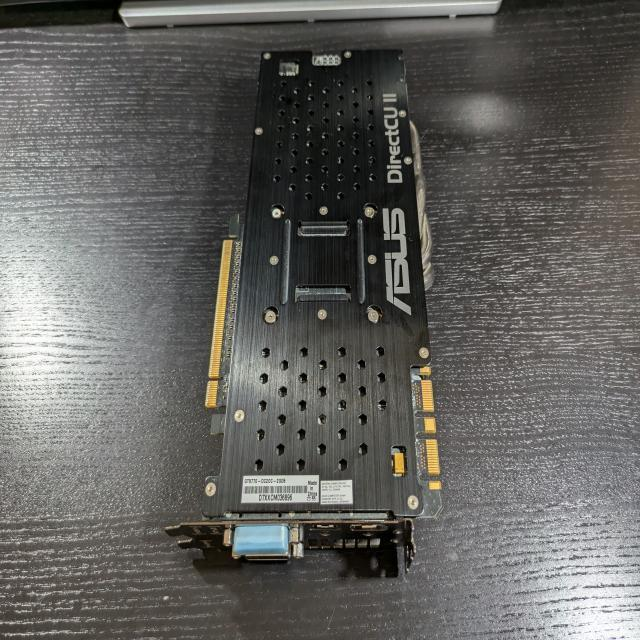GPU: (164, 45, 450, 578)
